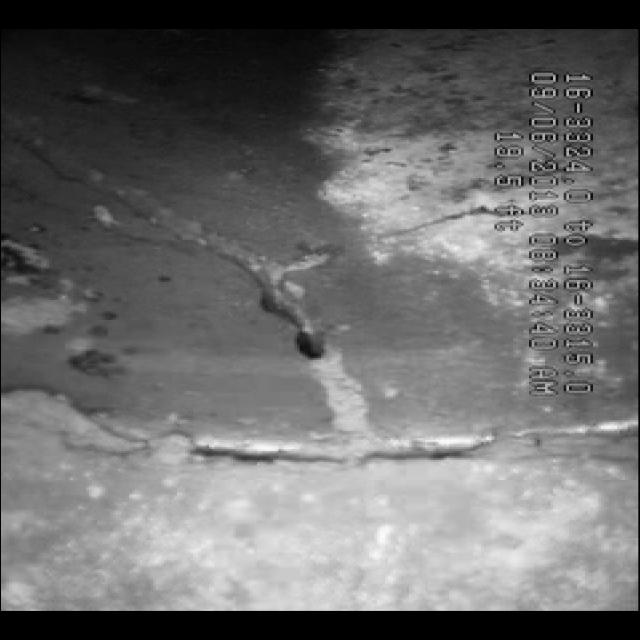Crack: (98, 172, 402, 434)
